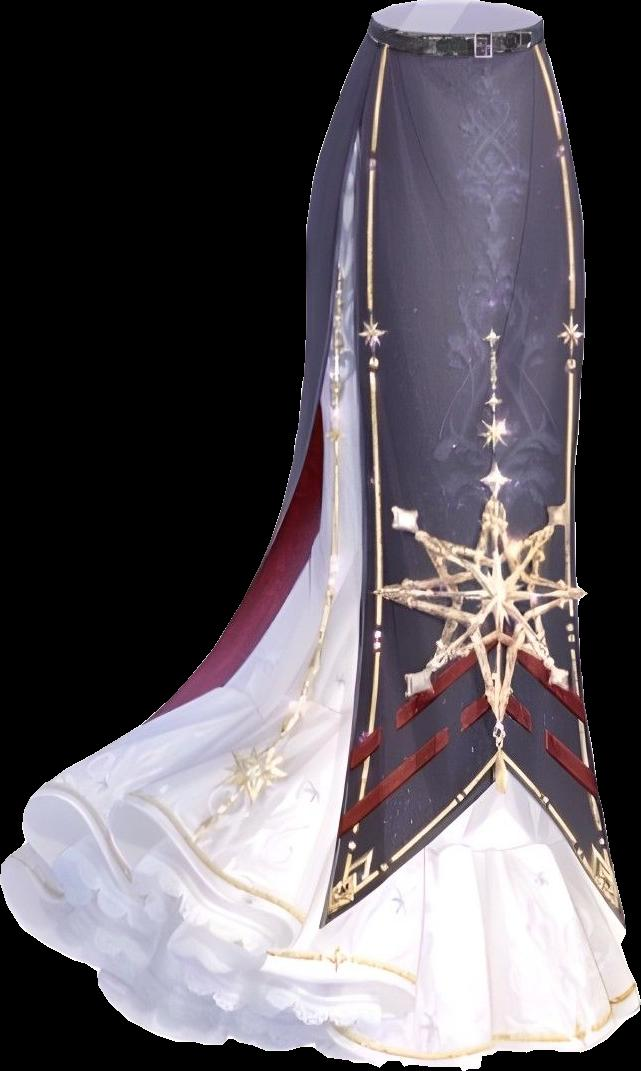Hemline: (312, 38, 631, 937), (0, 788, 640, 1068)
Waistline: (368, 11, 549, 44)
